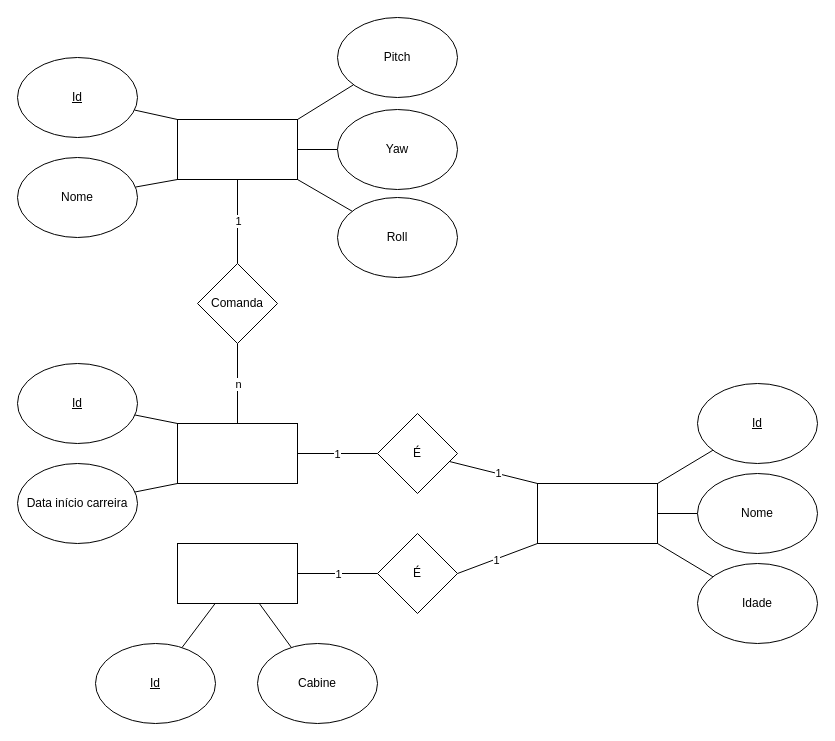
This 835x741 diagram has some shape labels left out. Here are the shapes that lost their labels. From the top down, the box of each, then its label:
(176, 118, 298, 180): Nave
(176, 422, 298, 484): Comandante
(536, 482, 658, 544): Pessoa
(176, 542, 298, 604): Passageiro
